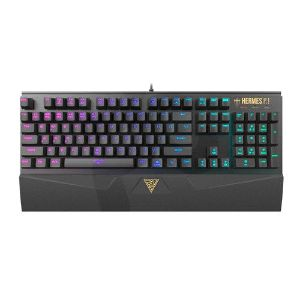keyboard: (15, 82, 289, 218)
